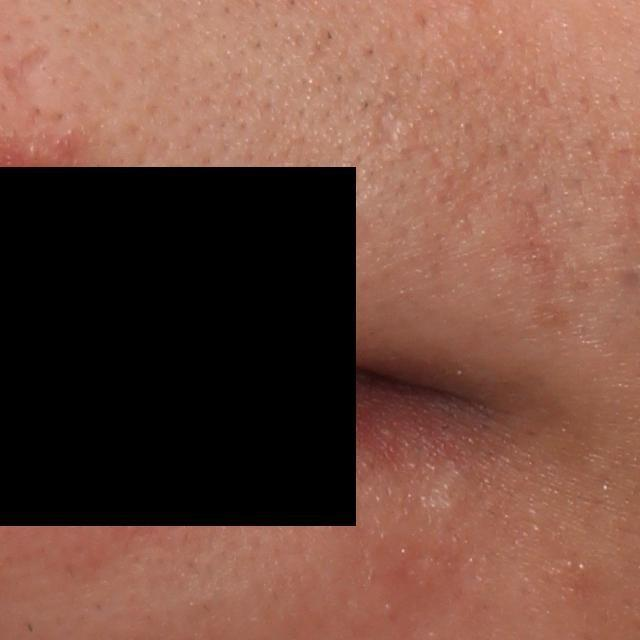atrophic_scar: (367, 87, 403, 158)
hypertrophic_scar: (429, 465, 474, 525)
